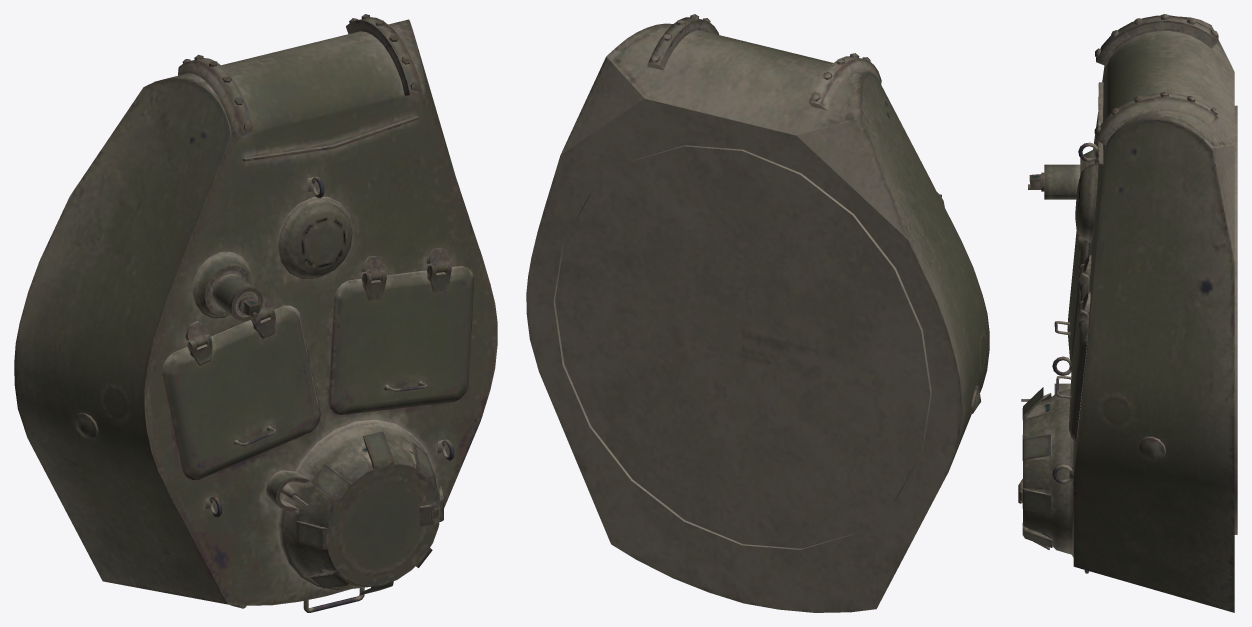
The model's file is Turret_01.glb.
The picture shows the model from 3 angles, left to right: view 1: azimuth 30°, elevation 25°; view 2: azimuth 150°, elevation 25°; view 3: azimuth 270°, elevation 25°; orthographic projection. The views are drawn at different scales.
Parts seen in each view (by area): view 1: set_0_group_0; view 2: set_0_group_0; view 3: set_0_group_0.
Boxes of the visible parts, x1,y1,x2,y2 form: set_0_group_0: (14,14,497,612); set_0_group_0: (526,14,989,612); set_0_group_0: (1018,14,1237,612).
Bounding box in the file's own units: 1.64 × 1.93 × 0.7224.
1 material, 1 textured.
